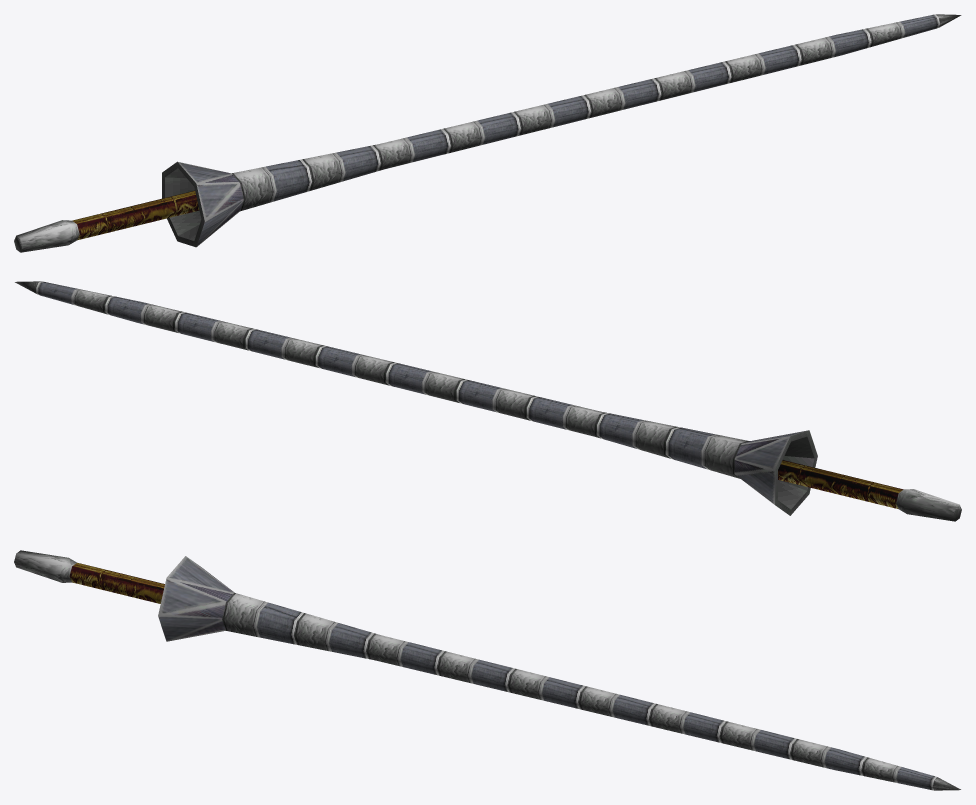
3 renders of one model, top to bottom at view 1: azimuth 30°, elevation 25°; view 2: azimuth 150°, elevation 25°; view 3: azimuth 330°, elevation 25°, orthographic.
Visible parts, largest first — view 1: it10612; view 2: it10612; view 3: it10612.
Boxes of the visible parts, left/top/right/bottom form: it10612: left=14, top=14, right=961, bottom=252; it10612: left=15, top=281, right=961, bottom=521; it10612: left=14, top=550, right=960, bottom=790.
Bounding box in the file's own units: 9.19 × 0.7432 × 0.7241.
4 materials, 4 textured.
